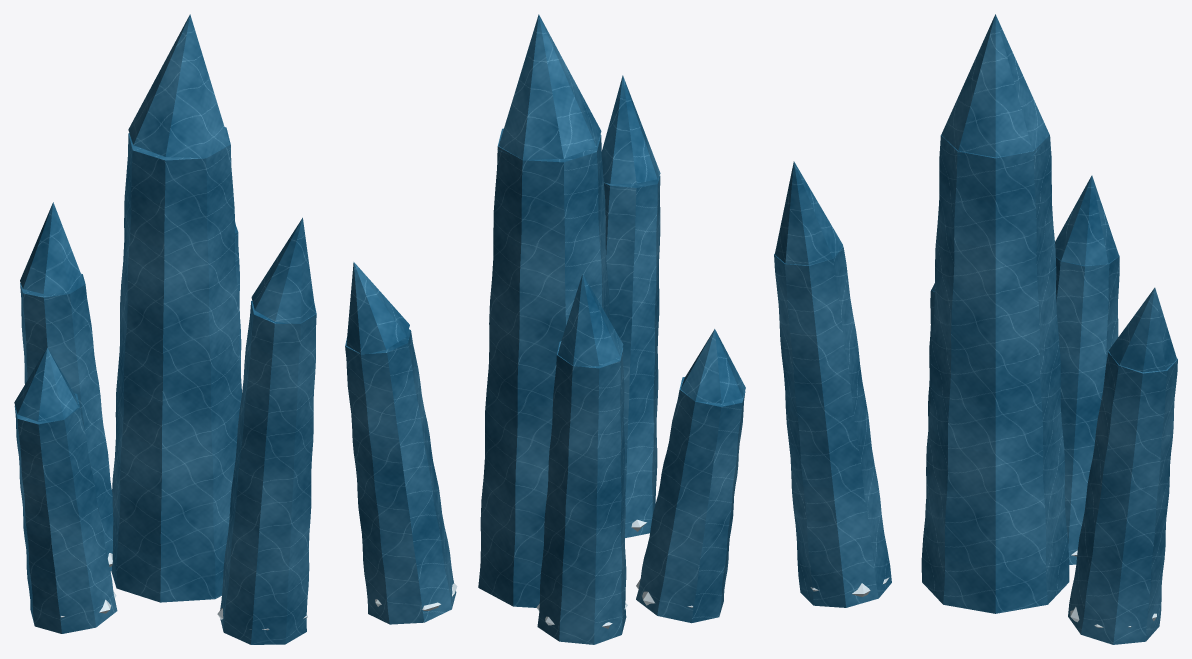
File: SecondRoom_IceColumn.fbx
The picture shows the model from 3 angles, left to right: view 1: azimuth 30°, elevation 25°; view 2: azimuth 150°, elevation 25°; view 3: azimuth 270°, elevation 25°; orthographic projection. The views are drawn at different scales.
Parts seen in each view (by area): view 1: WO_SecondRoom_IceColumn_LOD0; view 2: WO_SecondRoom_IceColumn_LOD0; view 3: WO_SecondRoom_IceColumn_LOD0.
Part boxes in pixels (left/top/right/bottom): WO_SecondRoom_IceColumn_LOD0: left=14, top=14, right=316, bottom=644; WO_SecondRoom_IceColumn_LOD0: left=345, top=14, right=745, bottom=644; WO_SecondRoom_IceColumn_LOD0: left=774, top=14, right=1177, bottom=644.
Size of what is drawn, in the model's own units: 3.39 by 6 by 3.78.
